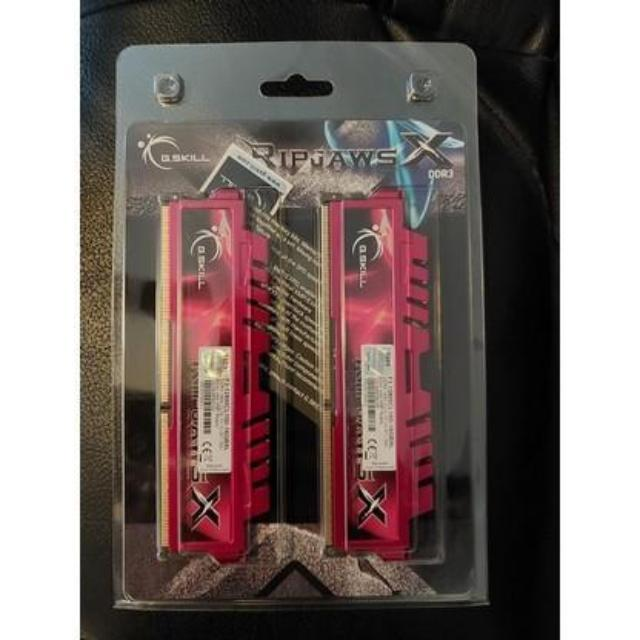RAM: (316, 188, 438, 556), (156, 194, 274, 562)
